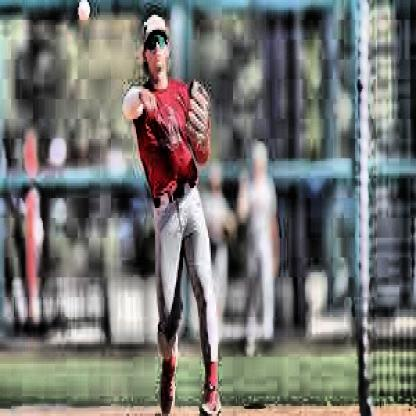baseball: (79, 0, 88, 22)
